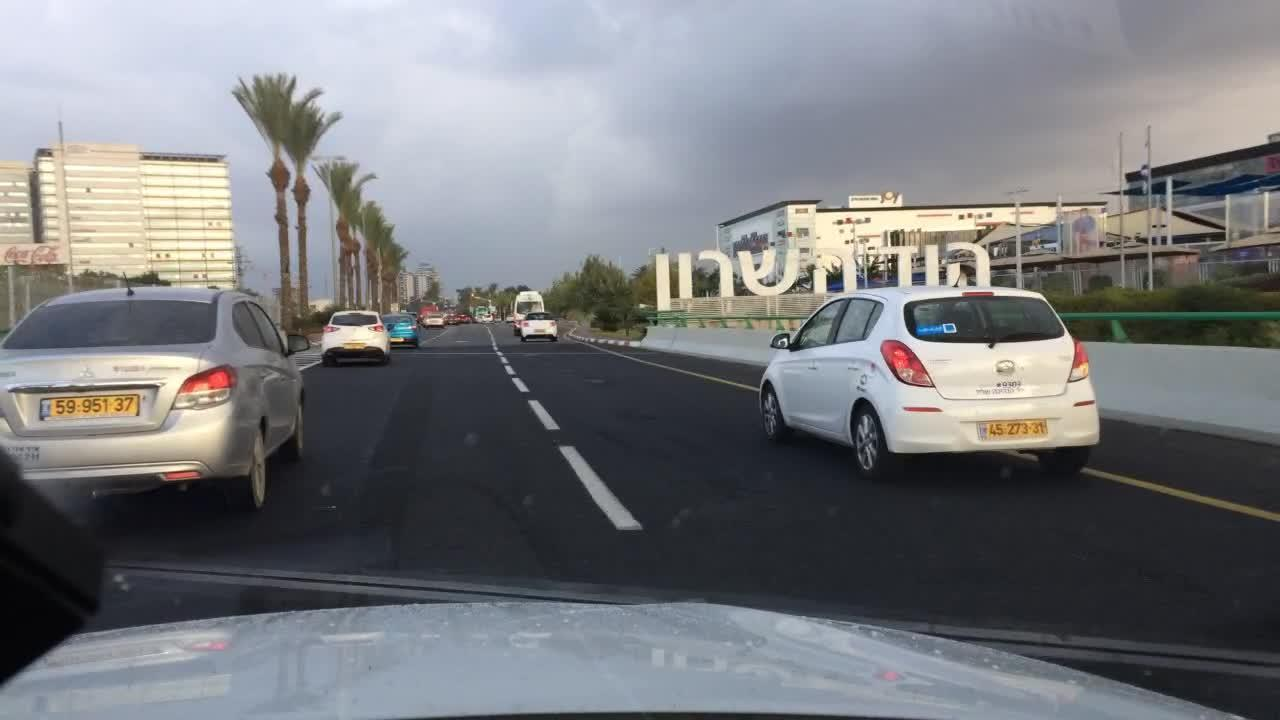Mitsubishi: (65, 363, 102, 386)
